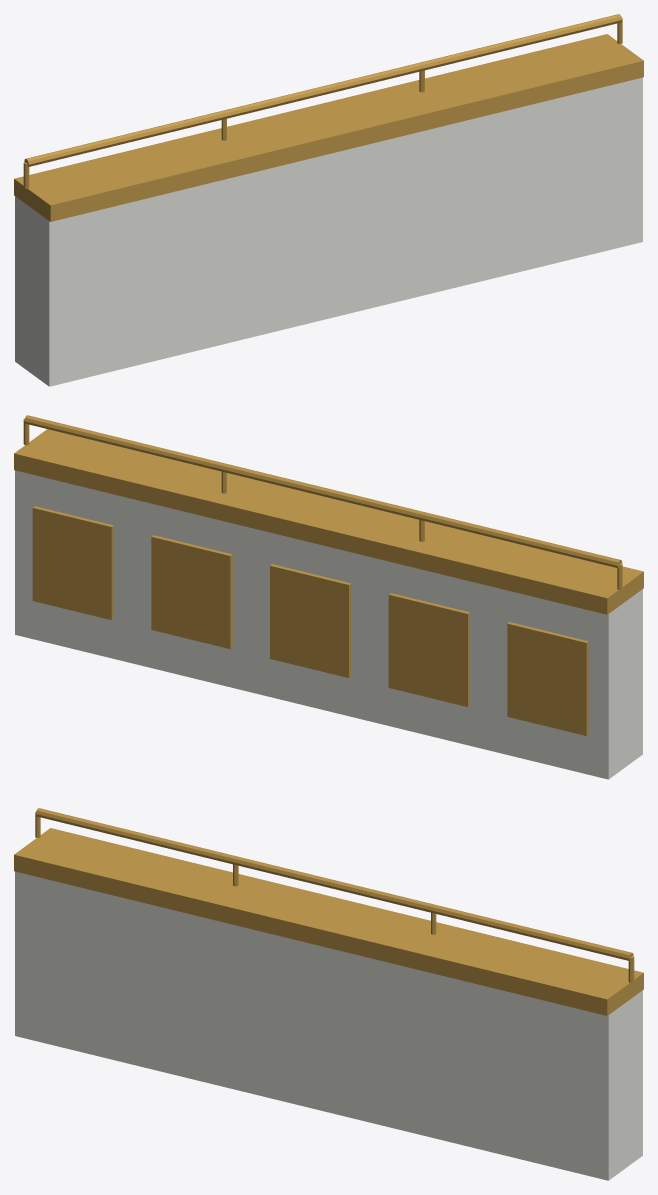
The model's file is venue.seat.balcony_front.glb.
3 renders of one model, top to bottom at view 1: azimuth 30°, elevation 25°; view 2: azimuth 150°, elevation 25°; view 3: azimuth 330°, elevation 25°, orthographic.
Visible parts, largest first — view 1: main__paint_white, main__brass; view 2: main__brass, main__paint_white; view 3: main__paint_white, main__brass.
Part boxes in pixels (x1,y1,x2,y2): main__paint_white: (15,77,642,386); main__brass: (14,14,643,221); main__brass: (14,415,643,735); main__paint_white: (15,470,642,779); main__paint_white: (15,871,642,1180); main__brass: (14,808,643,1015).
Bounding box in the file's own units: 3.02 × 1.02 × 0.33.
